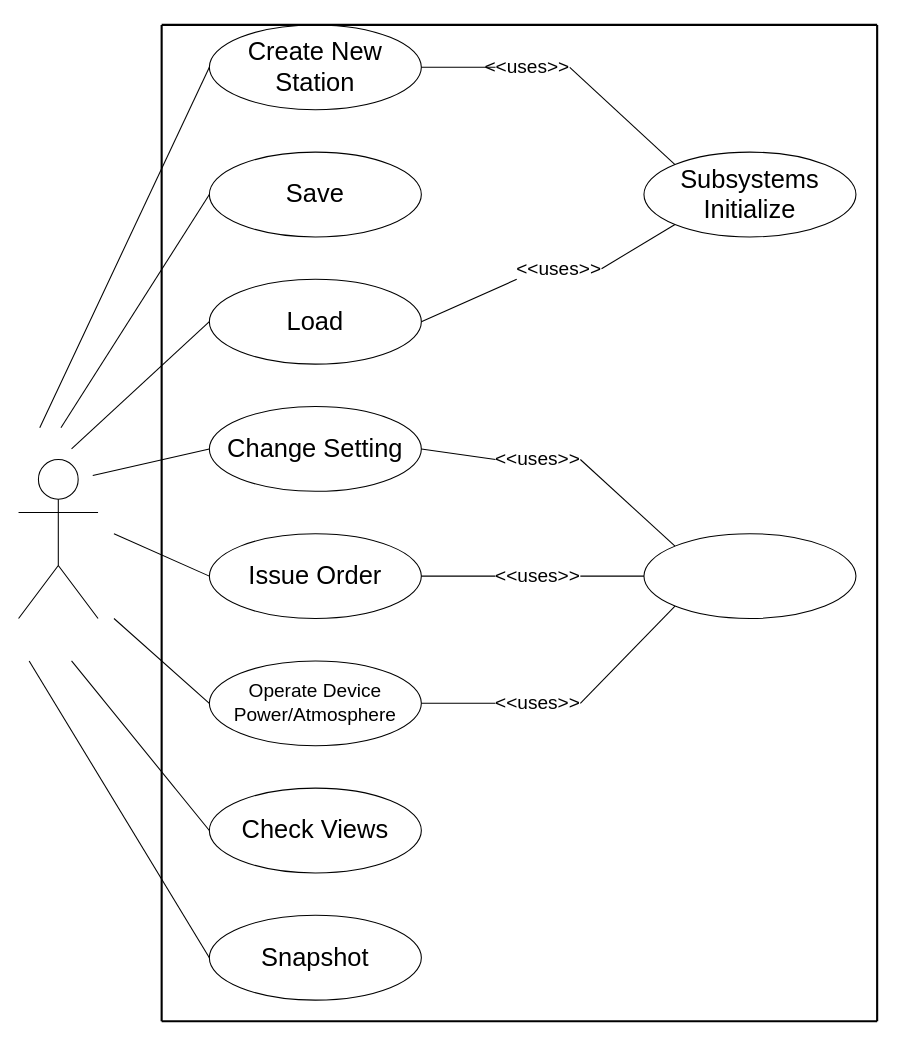
Some shapes in this 898 by 1041 pixel diagram are drawn without their labels. Each missing label, with the centre of its shape:
"Subsystems React" goes at point 749,576.
"User" goes at point 57,538.
